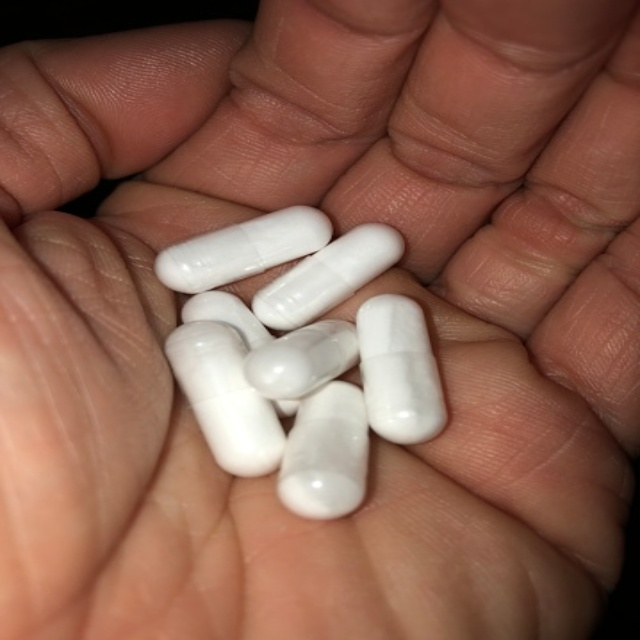pill: (91, 237, 160, 357), (83, 153, 189, 218), (144, 167, 228, 243), (199, 219, 253, 333), (158, 284, 207, 387), (139, 237, 204, 298)
